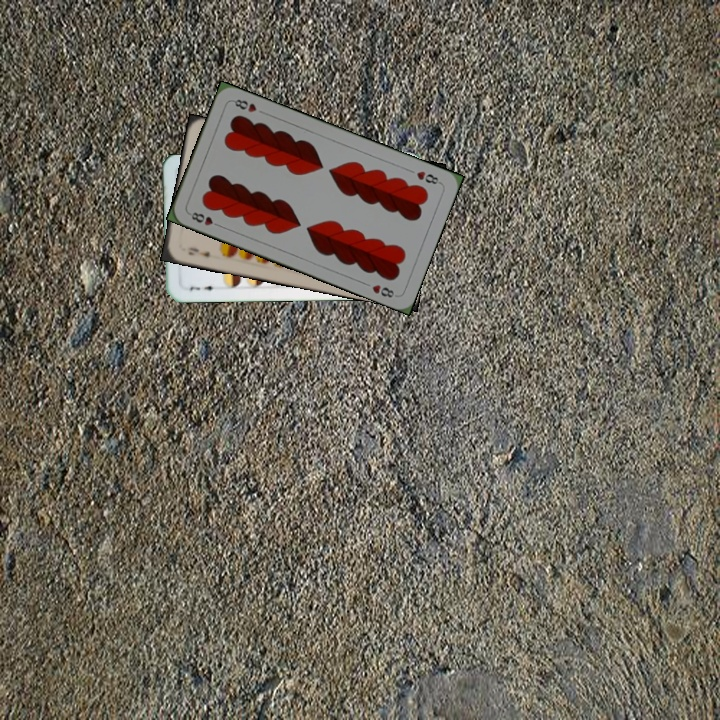E7: (185, 282, 220, 294)
E9: (184, 243, 212, 260)
H8: (185, 208, 224, 230), (412, 167, 443, 187)
